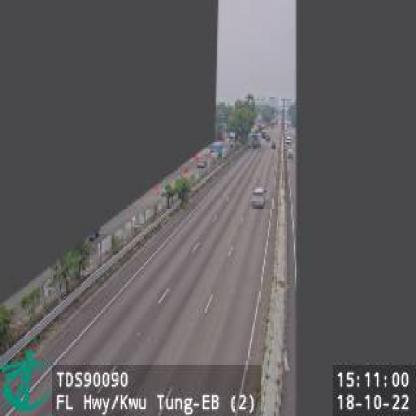Car: (252, 186, 268, 208)
